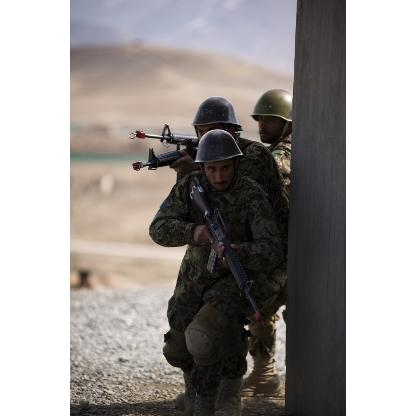gun: (184, 178, 258, 312), (128, 122, 270, 148), (130, 136, 198, 170)
